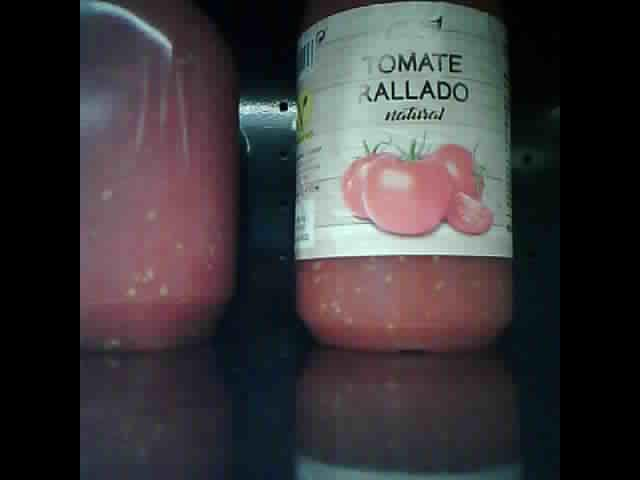tomate: (292, 2, 513, 355), (83, 2, 233, 353)
